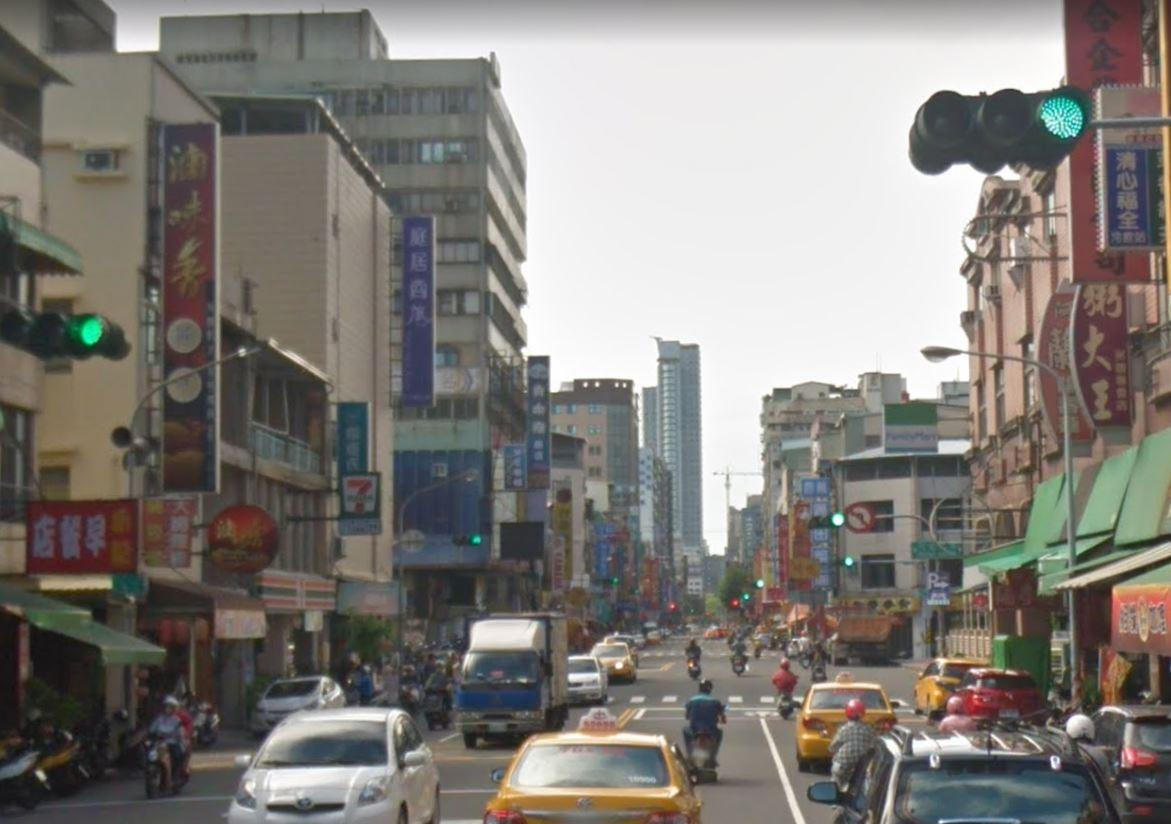car: (830, 726, 1117, 824), (221, 703, 435, 824), (480, 721, 703, 824), (1079, 698, 1171, 824), (790, 673, 894, 774), (944, 668, 1042, 734), (915, 653, 989, 715), (562, 653, 612, 700), (596, 640, 630, 682)
green_traffic_light: (905, 87, 1091, 177), (5, 304, 130, 365), (803, 509, 845, 531)
motorcycle: (144, 686, 195, 795), (676, 701, 725, 782)
truck: (458, 603, 570, 750)
